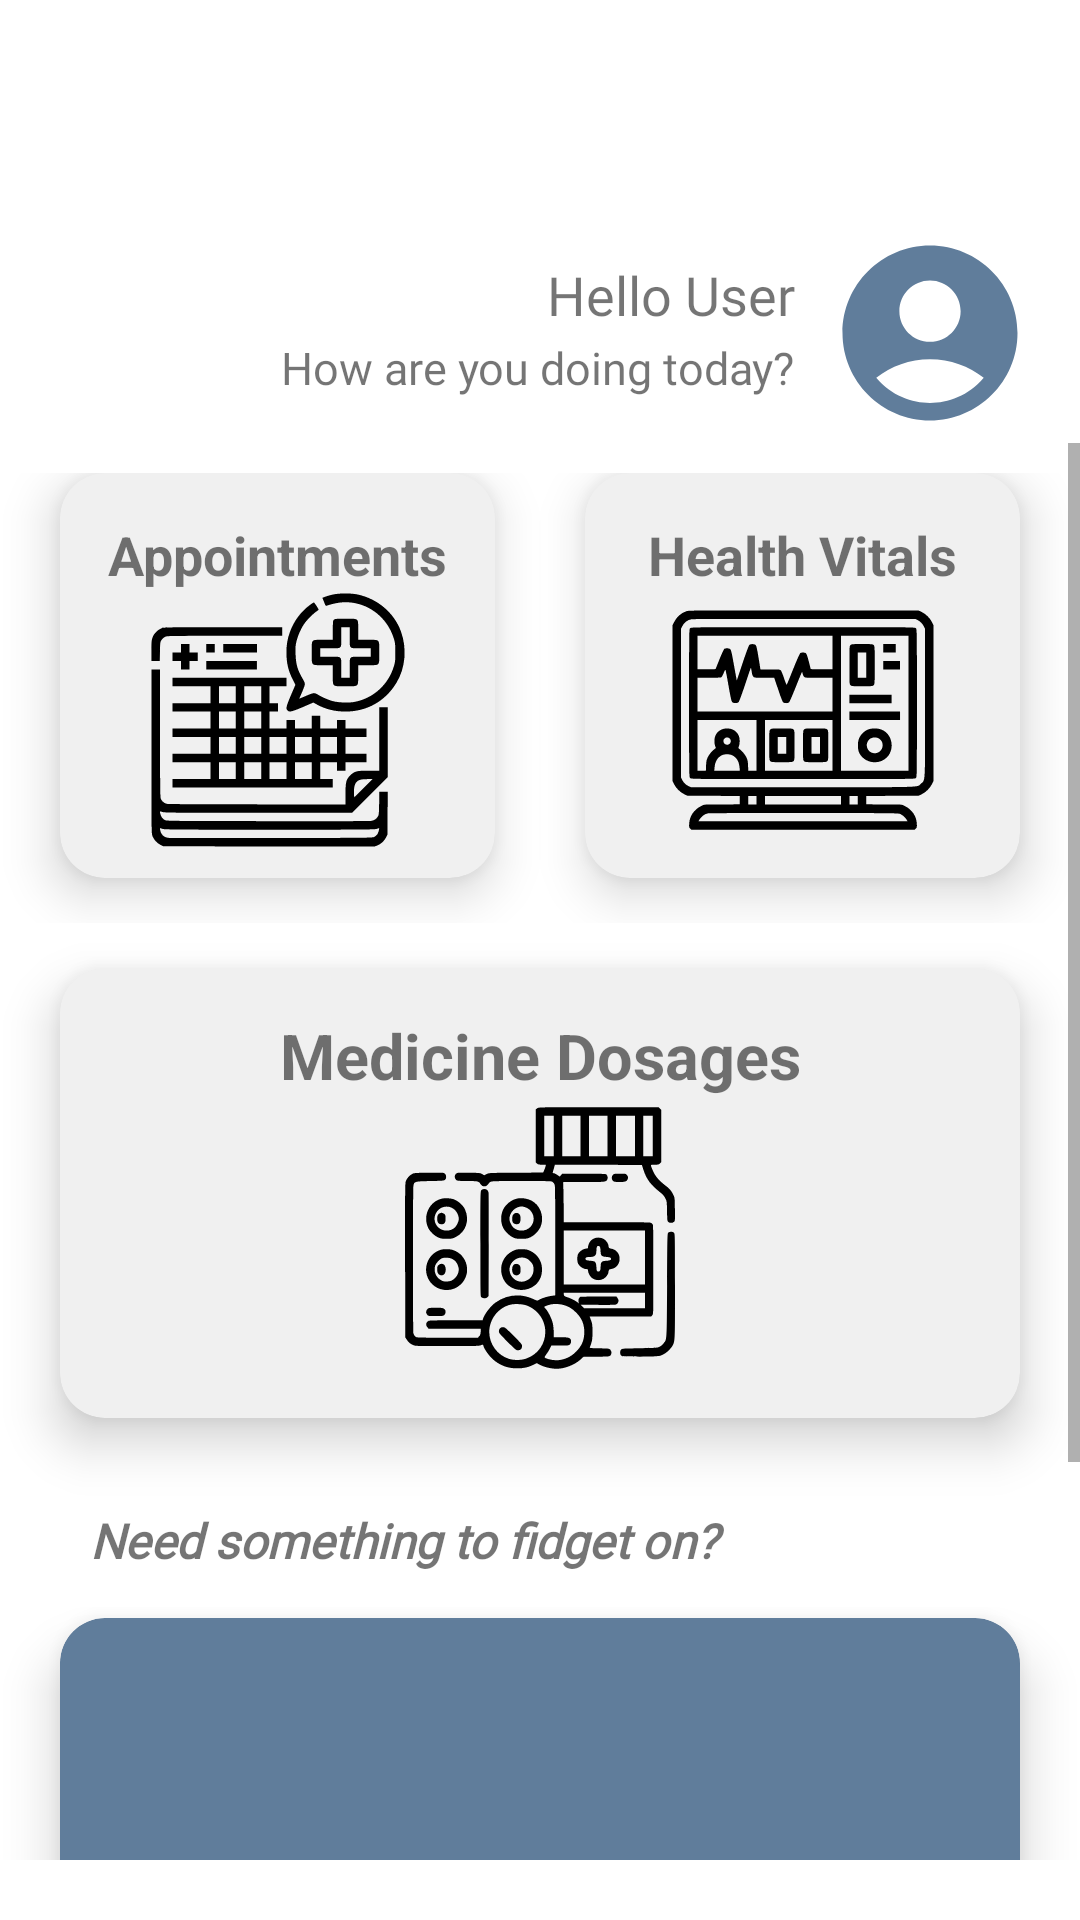

Named icons in this screenshot (1080px x 1920px) and their bounding boxes, [x1, y1, x2, y2]:
Profile Picture: [842, 245, 1018, 421]
